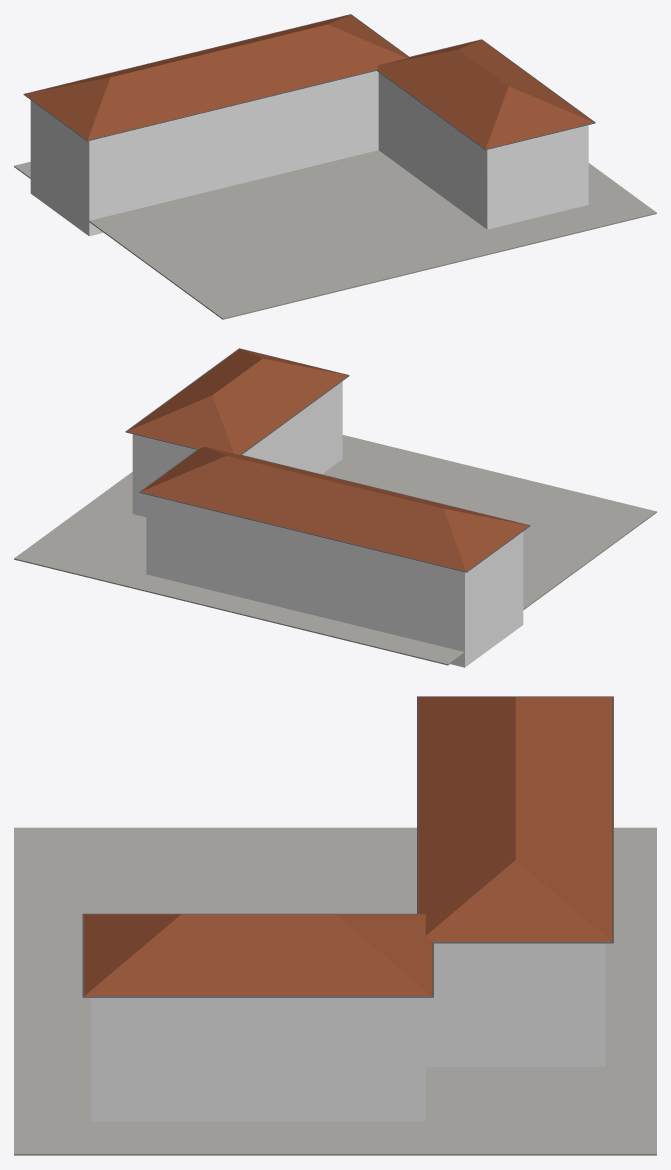
Rendered from bina_17_u.glb.
3 renders of one model, top to bottom at view 1: azimuth 30°, elevation 25°; view 2: azimuth 150°, elevation 25°; view 3: azimuth 270°, elevation 25°, orthographic. The views are drawn at different scales.
Parts seen in each view (by area): view 1: P17_Okul_L2.001; view 2: P17_Okul_L2.001; view 3: P17_Okul_L2.001.
Part boxes in pixels (x1,y1,x2,y2): P17_Okul_L2.001: [14, 14, 656, 319]; P17_Okul_L2.001: [14, 348, 656, 667]; P17_Okul_L2.001: [14, 696, 656, 1155].
Bounding box in the file's own units: 60.66 × 16.54 × 50.
